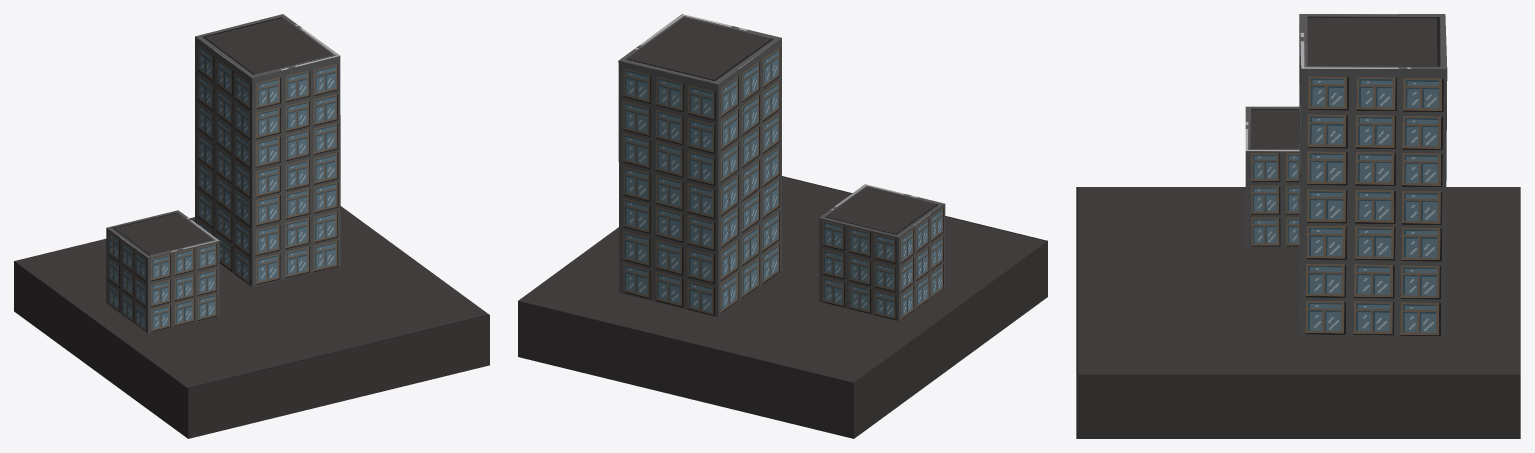
Rendered from building.obj.
3 views of the same model, side by side, from view 1: azimuth 30°, elevation 25°; view 2: azimuth 150°, elevation 25°; view 3: azimuth 270°, elevation 25° (orthographic). The views are drawn at different scales.
Visible parts, largest first — view 1: Cube; view 2: Cube; view 3: Cube.
Boxes of the visible parts, bbox=[...] form: Cube: bbox=[14, 14, 489, 438]; Cube: bbox=[518, 14, 1047, 438]; Cube: bbox=[1076, 14, 1520, 438].
Size of the model in its own units: 2.73 by 2.25 by 2.73.
Materials: 1 (1 with a texture image).
